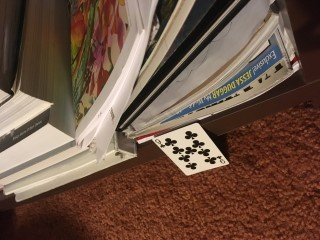NineOfClubs: (151, 123, 229, 176)
